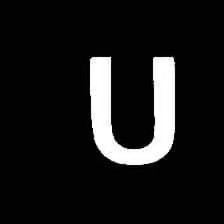LTR_U: (78, 43, 183, 171)
